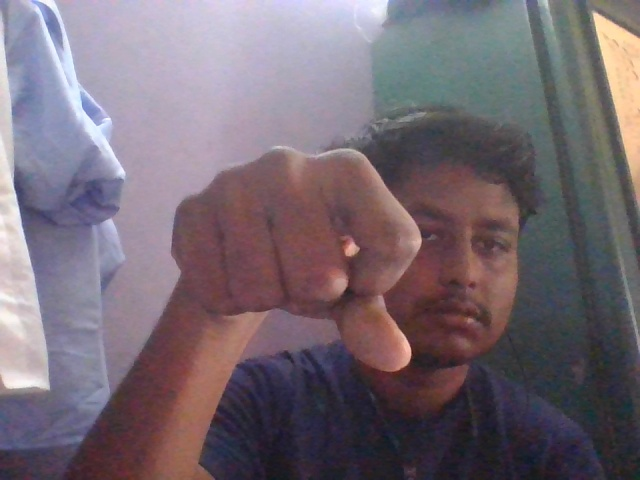yes: (151, 139, 426, 382)
